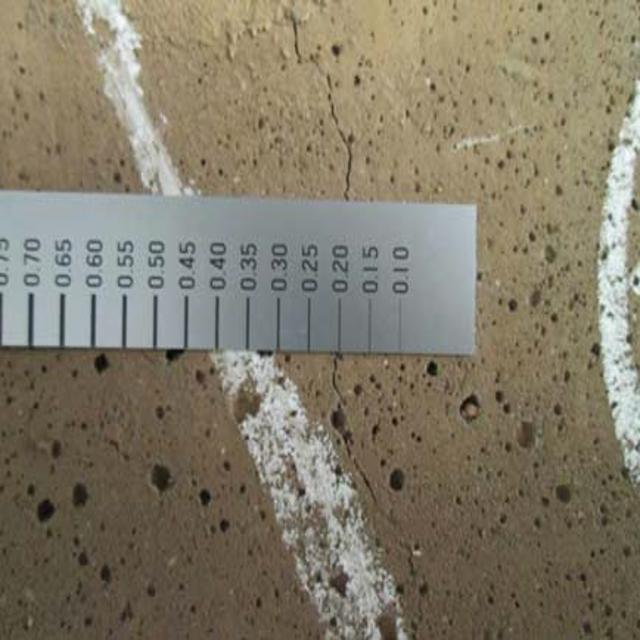crack: (310, 366, 423, 577), (264, 6, 363, 210)
